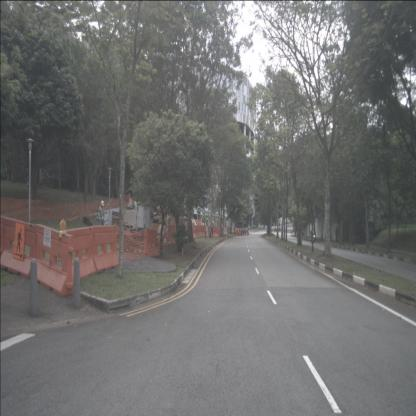human-pedestrian-adult: (335, 226, 338, 242)
movable_object-barrier: (34, 224, 75, 295), (0, 217, 37, 279), (59, 226, 96, 282), (91, 226, 119, 273), (144, 229, 159, 257), (167, 224, 177, 246), (185, 226, 196, 238), (212, 226, 221, 236), (196, 226, 202, 238), (220, 227, 228, 234), (202, 225, 206, 237), (206, 226, 209, 237)
movable_object-trafficcone: (236, 232, 237, 238), (242, 232, 243, 237)
vehicle-motorcycle: (310, 227, 316, 244)
vehicle-truck: (236, 220, 248, 235)
